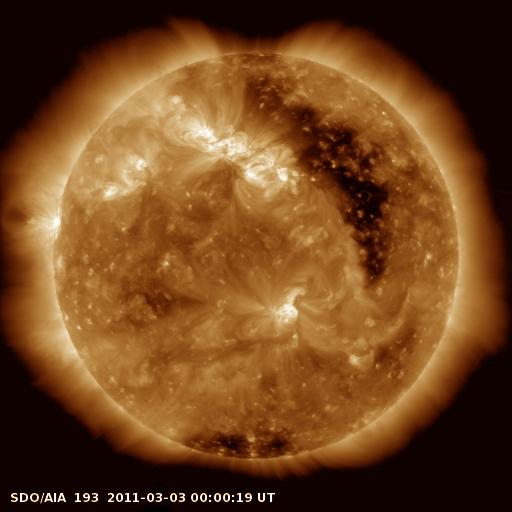coronal_hole: (226, 43, 398, 281), (179, 426, 299, 460)
